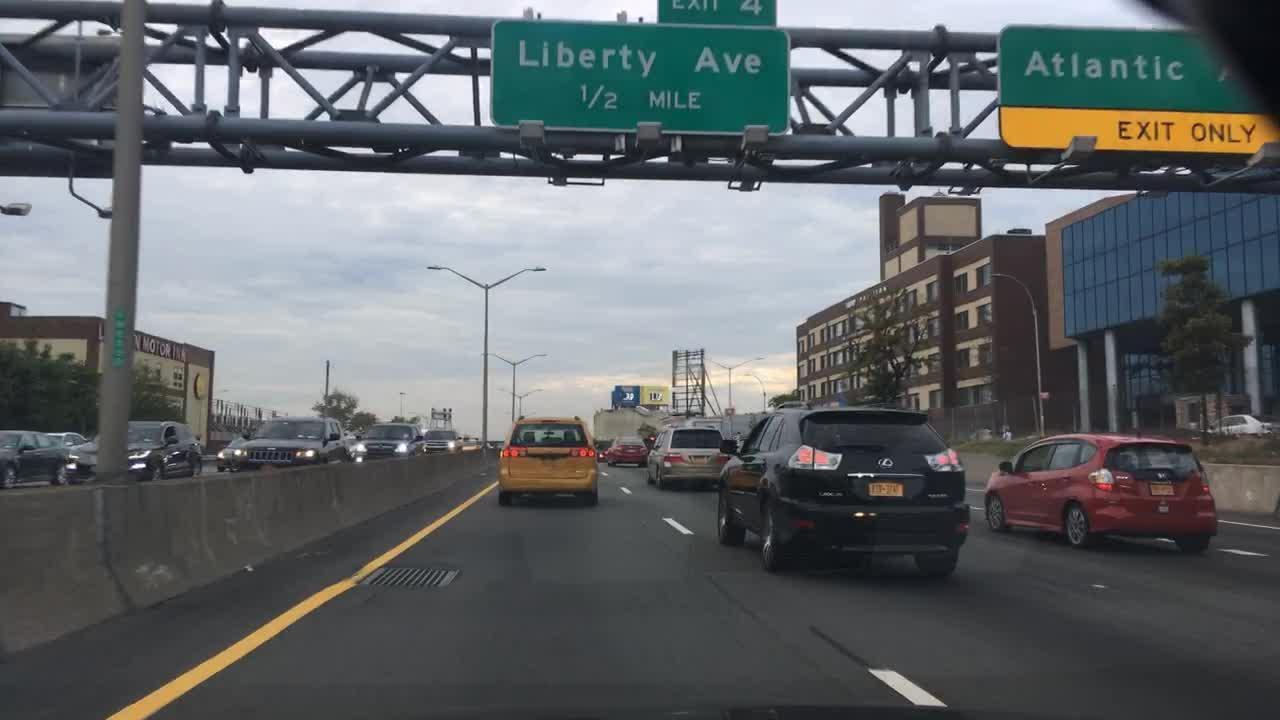Honda: (1153, 470, 1171, 483)
lexus: (875, 456, 896, 470)
